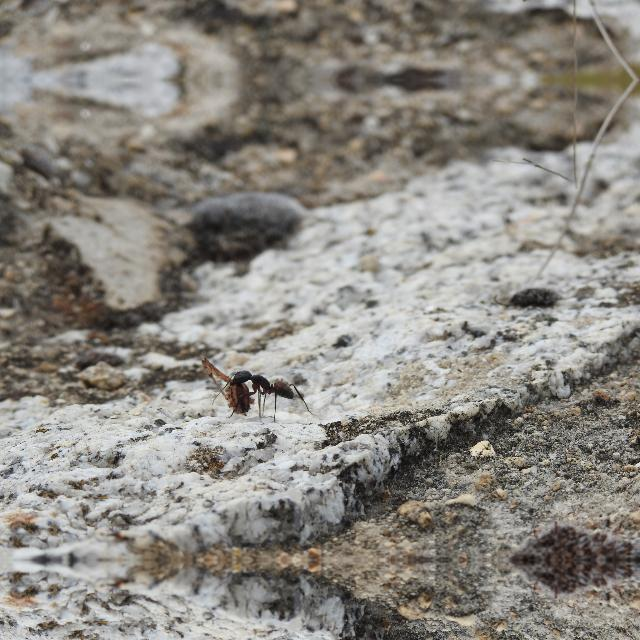Camponotus: (208, 354, 318, 416)
